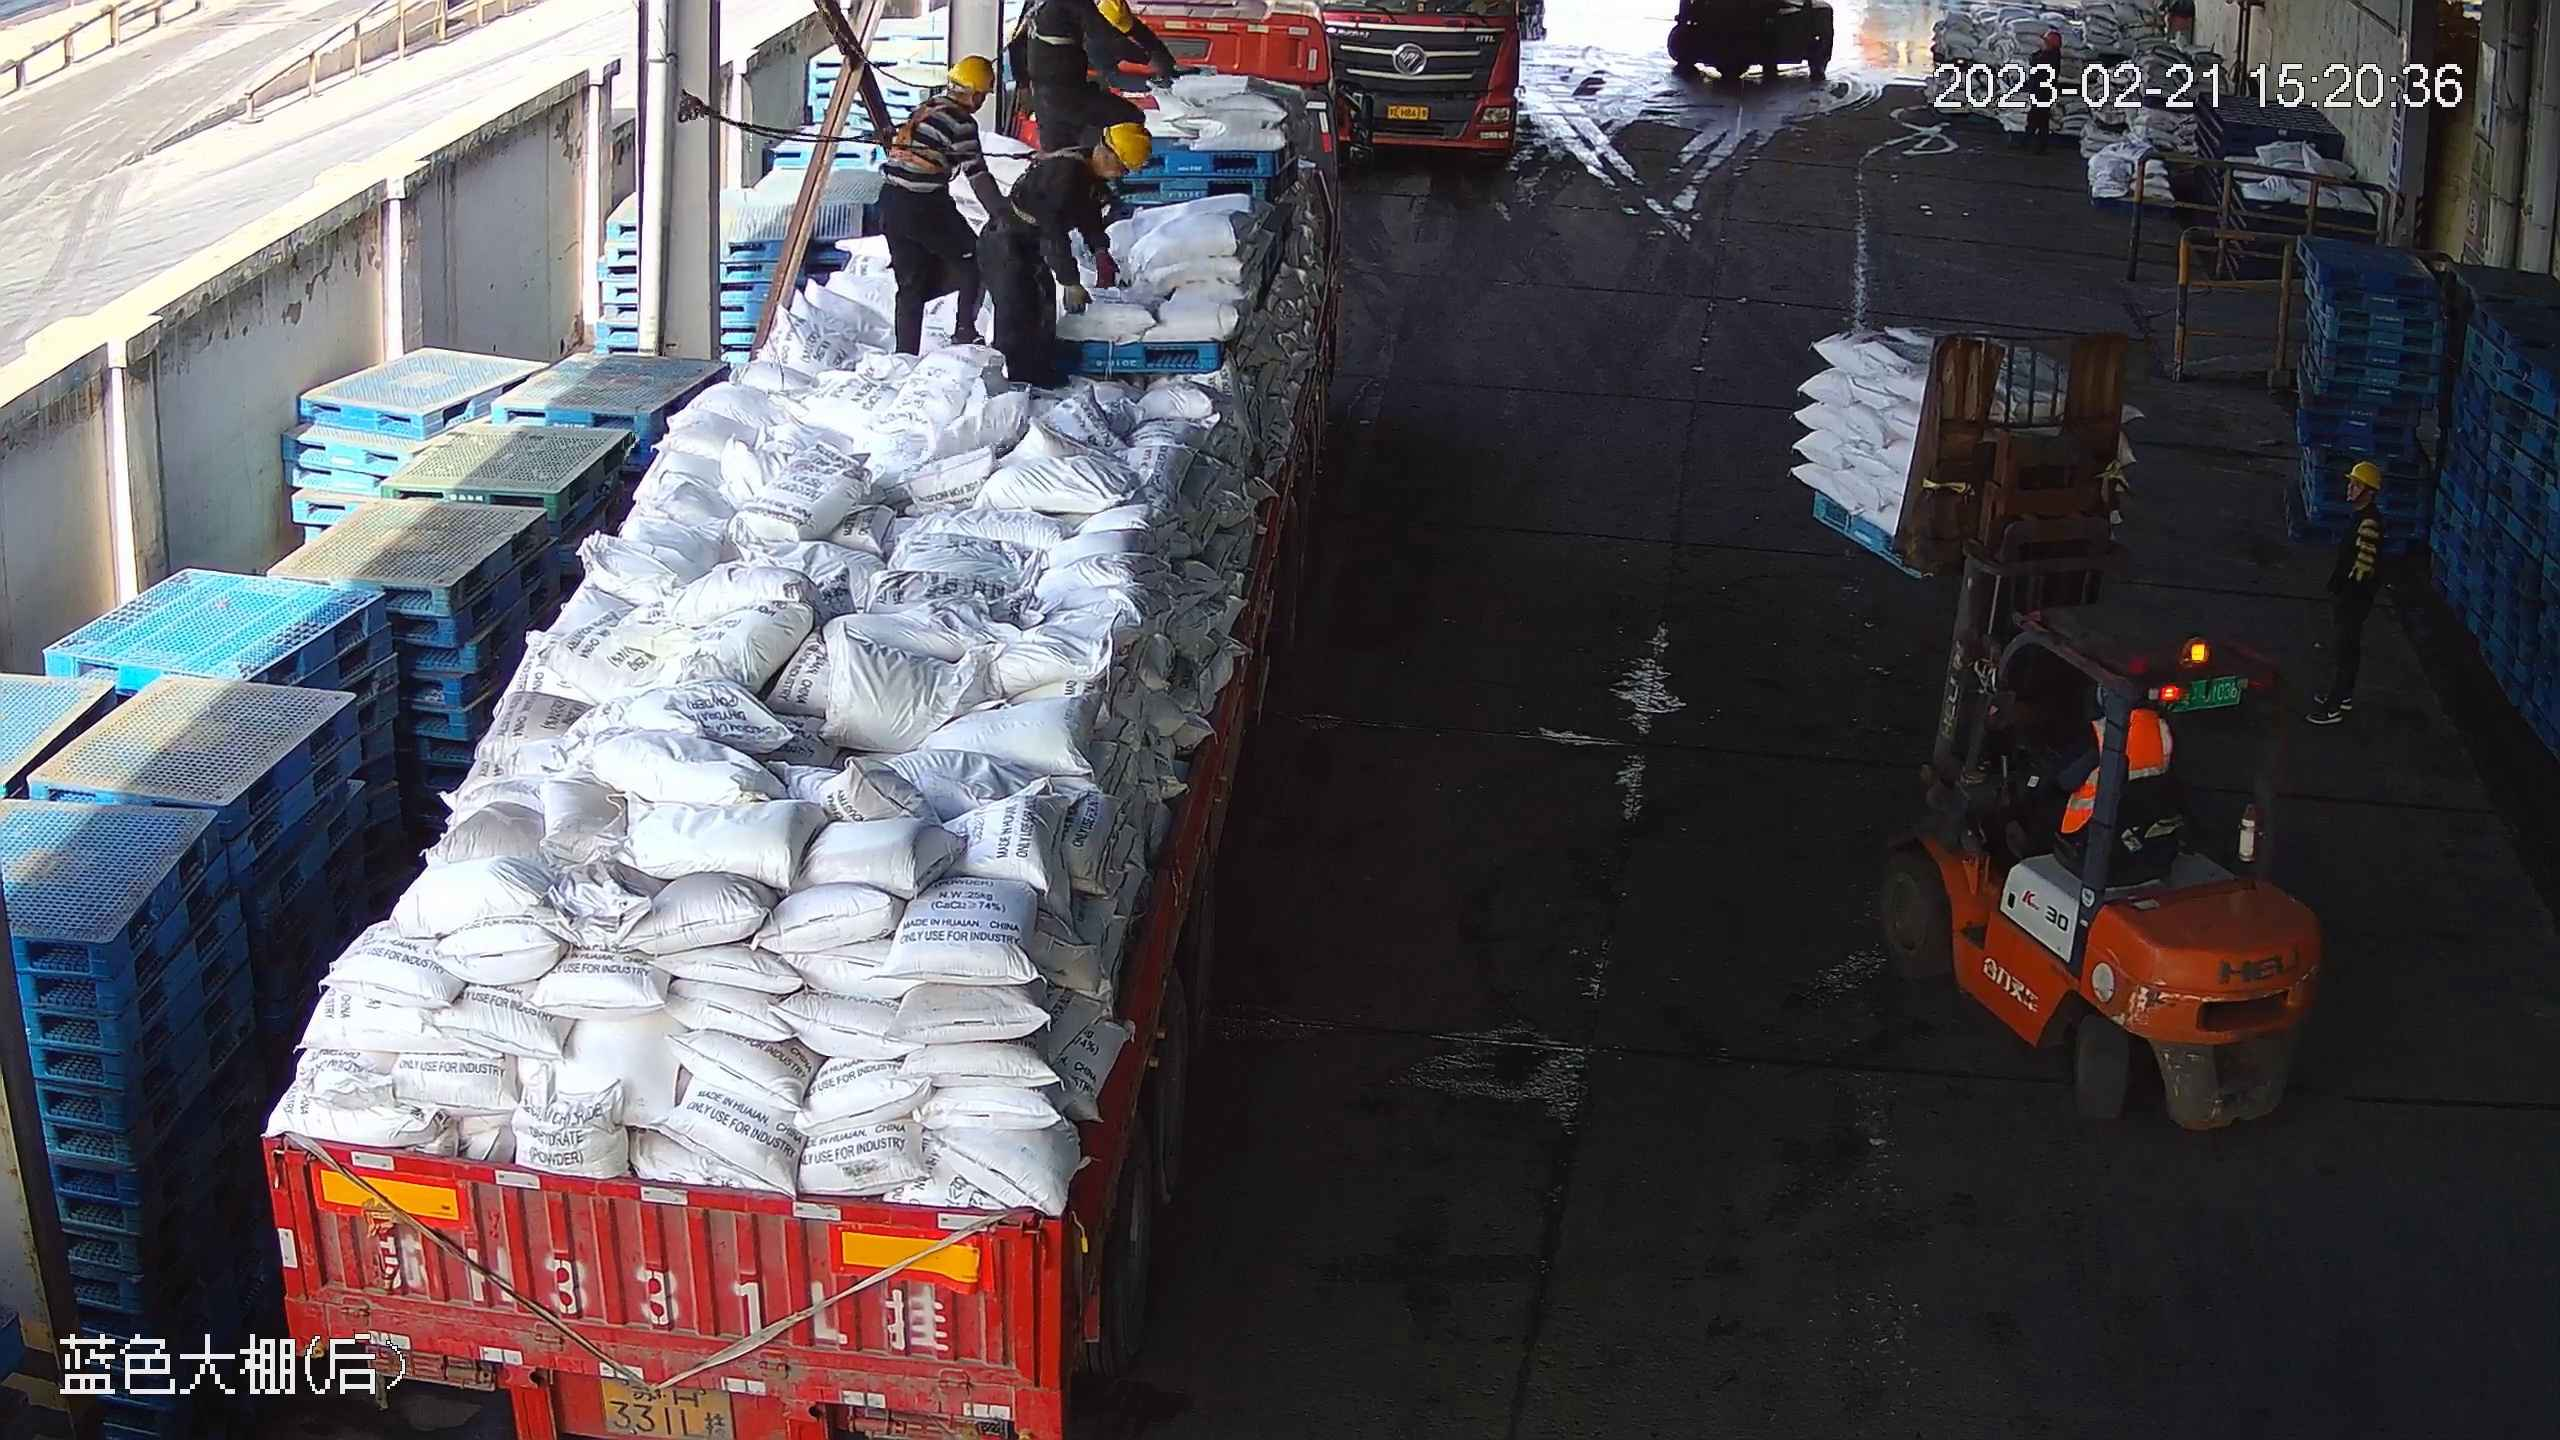belt: (1011, 149, 1096, 236), (883, 103, 957, 175), (1005, 3, 1086, 54)
head: (1039, 115, 1159, 212), (879, 54, 983, 151), (2320, 467, 2392, 538)
helmet: (1103, 110, 1159, 173), (949, 49, 999, 88), (2353, 454, 2392, 491)
people: (981, 114, 1161, 390), (881, 47, 994, 369), (2305, 454, 2387, 737)
truck: (262, 3, 1329, 1440), (1335, 8, 1548, 162)
